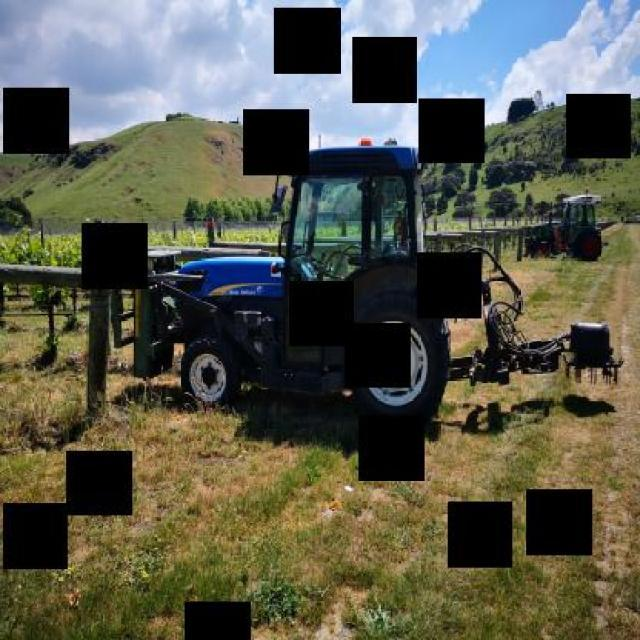Tratores - v5 YOLO V8L 2024-11-13: (126, 144, 457, 423), (517, 156, 614, 290)
